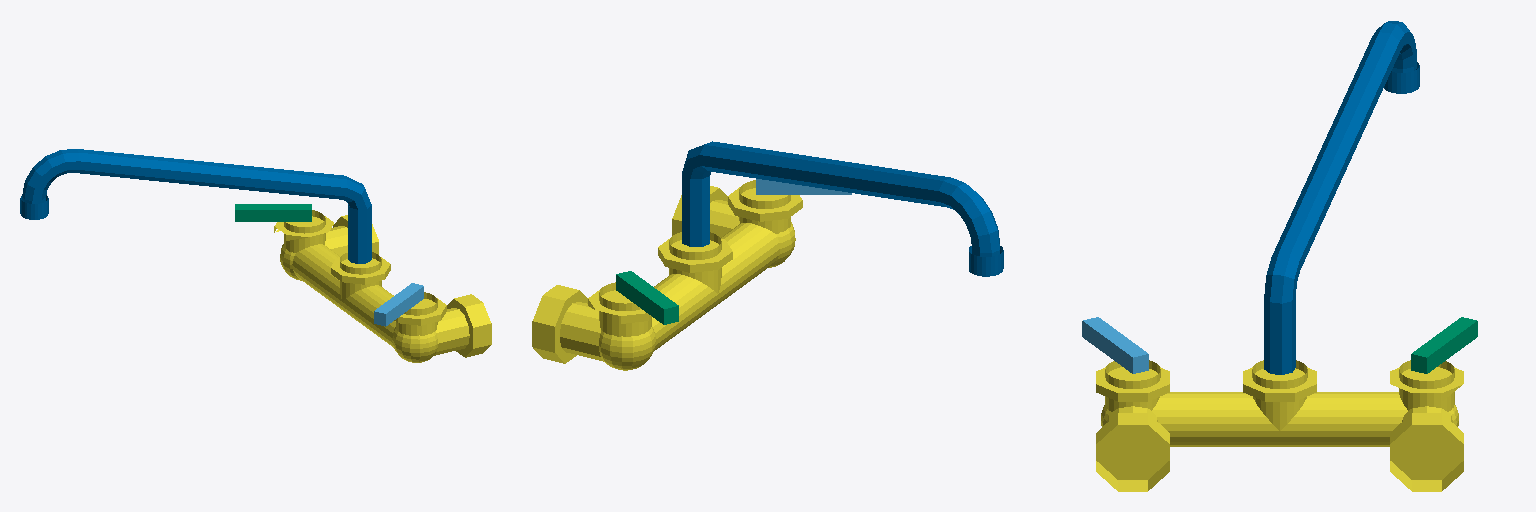
The robot description file, URDF, robot "partnet_d7c83d555374c3b27fde87eb01f5851":
<?xml version="1.0" ?>
<robot name="partnet_d7c83d555374c3b27fde87eb01f5851">
	<link name="base"/>
	<link name="link_0">
		<visual name="switch-7">
			<origin xyz="-0.3805425 0 0.1054695"/>
			<geometry>
				<mesh filename="textured_objs/original-18.obj"/>
			</geometry>
		</visual>
		<collision>
			<origin xyz="-0.3805425 0 0.1054695"/>
			<geometry>
				<mesh filename="textured_objs/original-18.obj"/>
			</geometry>
		</collision>
	</link>
	<joint name="joint_0" type="revolute">
		<origin xyz="0.3805425 0 -0.1054695"/>
		<axis xyz="0 -1 0"/>
		<child link="link_0"/>
		<parent link="link_2"/>
		<limit lower="-1.0471975511965976" upper="0.5235987755982988"/>
	</joint>
	<link name="link_1">
		<visual name="switch-8">
			<origin xyz="0.3056925 0 0.10546949999999998"/>
			<geometry>
				<mesh filename="textured_objs/original-19.obj"/>
			</geometry>
		</visual>
		<collision>
			<origin xyz="0.3056925 0 0.10546949999999998"/>
			<geometry>
				<mesh filename="textured_objs/original-19.obj"/>
			</geometry>
		</collision>
	</link>
	<joint name="joint_1" type="revolute">
		<origin xyz="-0.3056925 0 -0.10546949999999998"/>
		<axis xyz="0 1 0"/>
		<child link="link_1"/>
		<parent link="link_2"/>
		<limit lower="-0.9599310885968813" upper="0.6108652381980153"/>
	</joint>
	<link name="link_2">
		<visual name="surface_base-14">
			<origin xyz="0 0 0"/>
			<geometry>
				<mesh filename="textured_objs/original-4.obj"/>
			</geometry>
		</visual>
		<visual name="surface_base-15">
			<origin xyz="0 0 0"/>
			<geometry>
				<mesh filename="textured_objs/original-5.obj"/>
			</geometry>
		</visual>
		<visual name="vertical_support-16">
			<origin xyz="0 0 0"/>
			<geometry>
				<mesh filename="textured_objs/original-9.obj"/>
			</geometry>
		</visual>
		<visual name="vertical_support-17">
			<origin xyz="0 0 0"/>
			<geometry>
				<mesh filename="textured_objs/original-8.obj"/>
			</geometry>
		</visual>
		<visual name="vertical_support-17">
			<origin xyz="0 0 0"/>
			<geometry>
				<mesh filename="textured_objs/original-15.obj"/>
			</geometry>
		</visual>
		<visual name="vertical_support-18">
			<origin xyz="0 0 0"/>
			<geometry>
				<mesh filename="textured_objs/original-10.obj"/>
			</geometry>
		</visual>
		<visual name="vertical_support-18">
			<origin xyz="0 0 0"/>
			<geometry>
				<mesh filename="textured_objs/original-16.obj"/>
			</geometry>
		</visual>
		<visual name="horizontal_support-19">
			<origin xyz="0 0 0"/>
			<geometry>
				<mesh filename="textured_objs/original-17.obj"/>
			</geometry>
		</visual>
		<visual name="connector-21">
			<origin xyz="0 0 0"/>
			<geometry>
				<mesh filename="textured_objs/original-14.obj"/>
			</geometry>
		</visual>
		<visual name="connector-22">
			<origin xyz="0 0 0"/>
			<geometry>
				<mesh filename="textured_objs/original-11.obj"/>
			</geometry>
		</visual>
		<visual name="connector-23">
			<origin xyz="0 0 0"/>
			<geometry>
				<mesh filename="textured_objs/original-12.obj"/>
			</geometry>
		</visual>
		<visual name="connector-23">
			<origin xyz="0 0 0"/>
			<geometry>
				<mesh filename="textured_objs/original-13.obj"/>
			</geometry>
		</visual>
		<visual name="vertical_support-25">
			<origin xyz="0 0 0"/>
			<geometry>
				<mesh filename="textured_objs/original-7.obj"/>
			</geometry>
		</visual>
		<visual name="vertical_support-26">
			<origin xyz="0 0 0"/>
			<geometry>
				<mesh filename="textured_objs/original-6.obj"/>
			</geometry>
		</visual>
		<collision>
			<origin xyz="0 0 0"/>
			<geometry>
				<mesh filename="textured_objs/original-4.obj"/>
			</geometry>
		</collision>
		<collision>
			<origin xyz="0 0 0"/>
			<geometry>
				<mesh filename="textured_objs/original-5.obj"/>
			</geometry>
		</collision>
		<collision>
			<origin xyz="0 0 0"/>
			<geometry>
				<mesh filename="textured_objs/original-9.obj"/>
			</geometry>
		</collision>
		<collision>
			<origin xyz="0 0 0"/>
			<geometry>
				<mesh filename="textured_objs/original-8.obj"/>
			</geometry>
		</collision>
		<collision>
			<origin xyz="0 0 0"/>
			<geometry>
				<mesh filename="textured_objs/original-15.obj"/>
			</geometry>
		</collision>
		<collision>
			<origin xyz="0 0 0"/>
			<geometry>
				<mesh filename="textured_objs/original-10.obj"/>
			</geometry>
		</collision>
		<collision>
			<origin xyz="0 0 0"/>
			<geometry>
				<mesh filename="textured_objs/original-16.obj"/>
			</geometry>
		</collision>
		<collision>
			<origin xyz="0 0 0"/>
			<geometry>
				<mesh filename="textured_objs/original-17.obj"/>
			</geometry>
		</collision>
		<collision>
			<origin xyz="0 0 0"/>
			<geometry>
				<mesh filename="textured_objs/original-14.obj"/>
			</geometry>
		</collision>
		<collision>
			<origin xyz="0 0 0"/>
			<geometry>
				<mesh filename="textured_objs/original-11.obj"/>
			</geometry>
		</collision>
		<collision>
			<origin xyz="0 0 0"/>
			<geometry>
				<mesh filename="textured_objs/original-12.obj"/>
			</geometry>
		</collision>
		<collision>
			<origin xyz="0 0 0"/>
			<geometry>
				<mesh filename="textured_objs/original-13.obj"/>
			</geometry>
		</collision>
		<collision>
			<origin xyz="0 0 0"/>
			<geometry>
				<mesh filename="textured_objs/original-7.obj"/>
			</geometry>
		</collision>
		<collision>
			<origin xyz="0 0 0"/>
			<geometry>
				<mesh filename="textured_objs/original-6.obj"/>
			</geometry>
		</collision>
	</link>
	<joint name="joint_2" type="fixed">
		<origin rpy="1.570796326794897 0 -1.570796326794897" xyz="0 0 0"/>
		<child link="link_2"/>
		<parent link="base"/>
	</joint>
	<link name="link_3">
		<visual name="tube-12">
			<origin xyz="-0.03742549999999999 0 0.10546950000000001"/>
			<geometry>
				<mesh filename="textured_objs/original-2.obj"/>
			</geometry>
		</visual>
		<visual name="mouth-13">
			<origin xyz="-0.03742549999999999 0 0.10546950000000001"/>
			<geometry>
				<mesh filename="textured_objs/original-3.obj"/>
			</geometry>
		</visual>
		<collision>
			<origin xyz="-0.03742549999999999 0 0.10546950000000001"/>
			<geometry>
				<mesh filename="textured_objs/original-2.obj"/>
			</geometry>
		</collision>
		<collision>
			<origin xyz="-0.03742549999999999 0 0.10546950000000001"/>
			<geometry>
				<mesh filename="textured_objs/original-3.obj"/>
			</geometry>
		</collision>
	</link>
	<joint name="joint_3" type="continuous">
		<origin xyz="0.03742549999999999 0 -0.10546950000000001"/>
		<axis xyz="0 1 0"/>
		<child link="link_3"/>
		<parent link="link_2"/>
	</joint>
</robot>

--- Render facts (derived) ---
The picture shows the robot from 3 angles, left to right: view 1: azimuth 30°, elevation 25°; view 2: azimuth 150°, elevation 25°; view 3: azimuth 270°, elevation 25°; orthographic projection.
Model partnet_d7c83d555374c3b27fde87eb01f5851 with 5 links and 4 joints (2 revolute, 1 continuous, 1 fixed), rooted at base, posed all joints at 0.
Visible links, largest first — view 1: link_2, link_3, link_1, link_0; view 2: link_2, link_3, link_1, link_0; view 3: link_2, link_3, link_0, link_1.
Link boxes in pixels (x1,y1,x2,y2): link_2: (274,210,491,362); link_3: (20,149,371,263); link_1: (235,204,311,221); link_0: (374,283,423,326); link_2: (532,180,802,370); link_3: (682,141,1003,276); link_1: (616,271,678,324); link_0: (756,179,851,194); link_2: (1096,360,1463,491); link_3: (1264,21,1419,374); link_0: (1082,317,1148,373); link_1: (1411,317,1477,373).
Bounding box of the posed robot: 1.25 × 0.9221 × 0.6836 m (x, y, z).
Meshes: 18 distinct files referenced, 18 mesh visuals loaded (18 OBJ).
